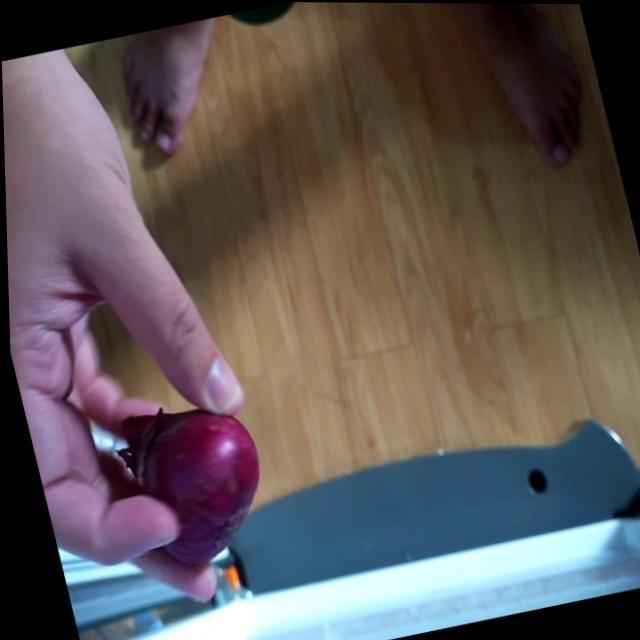onion: (113, 377, 280, 577)
